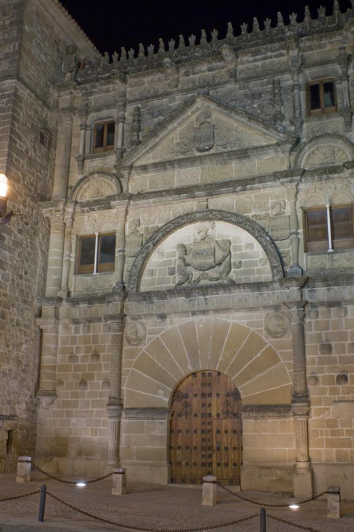arco-medio-punto: (163, 362, 247, 423)
fronton: (112, 90, 291, 171)
